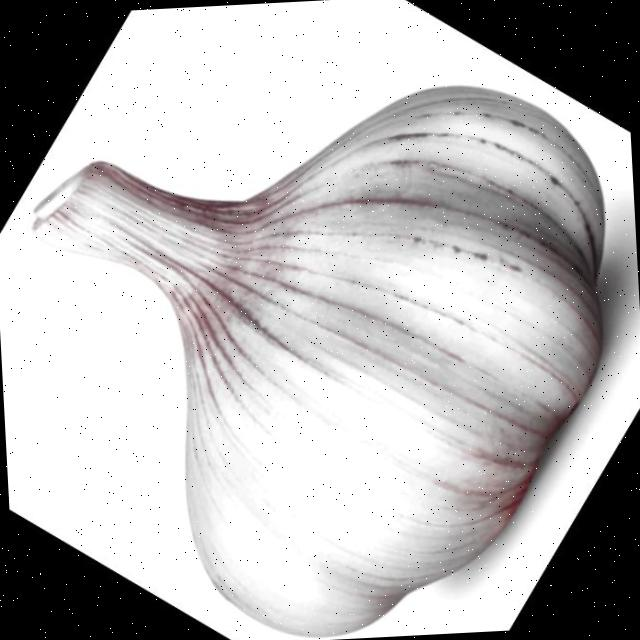garlic: (35, 87, 603, 635)
